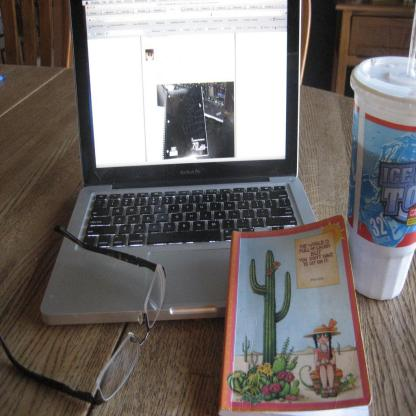board: (41, 0, 319, 327)
